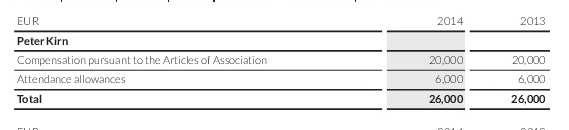table: (0, 0, 569, 130)
